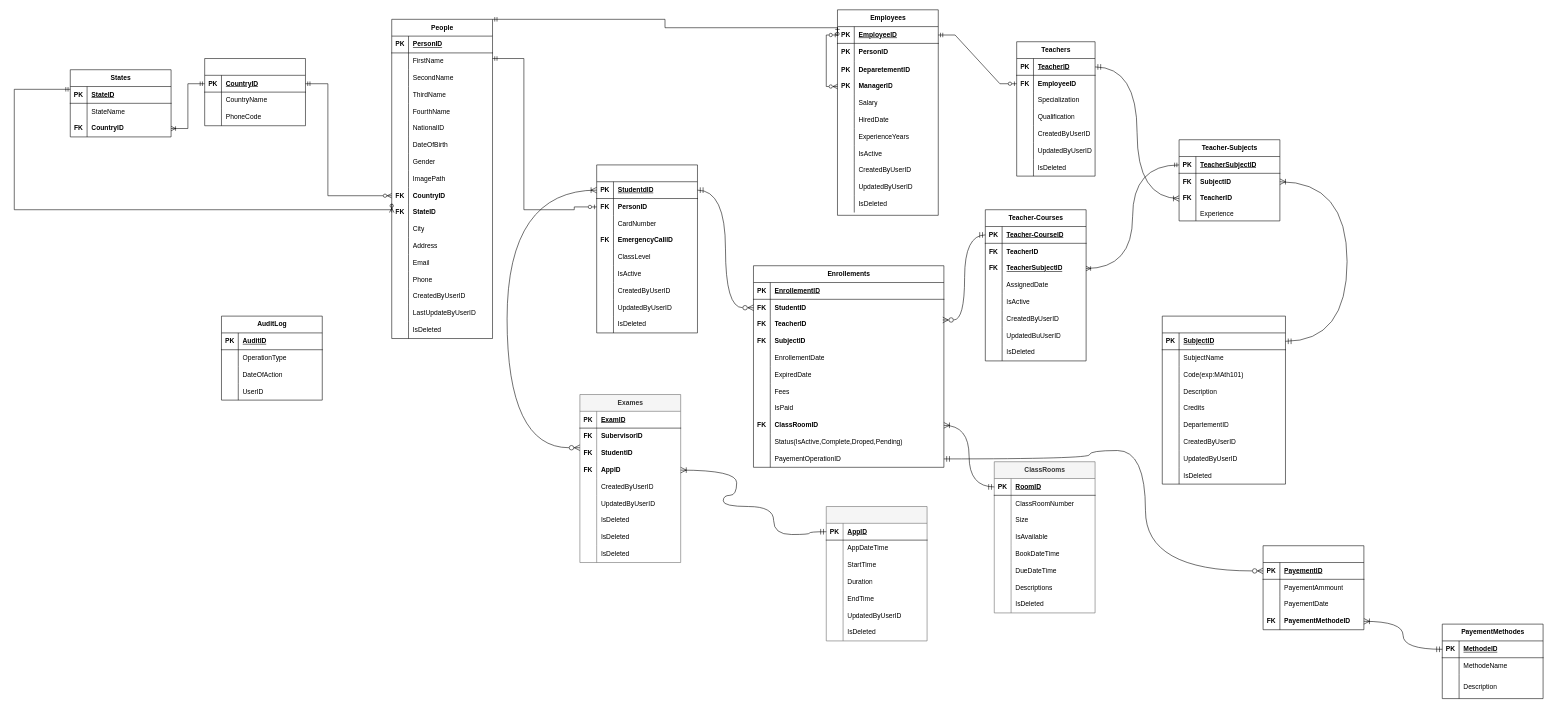
Some shapes in this 1553 by 708 pixel diagram are drawn without their labels. The box of each missing label's shape, as (x1, y1, x2, y2) in pixels:
Countries: (204, 58, 305, 126)
ExamAppointements: (826, 506, 927, 641)
Payements: (1263, 545, 1364, 630)
Students: (596, 164, 697, 333)
Subjects: (1162, 316, 1285, 484)
